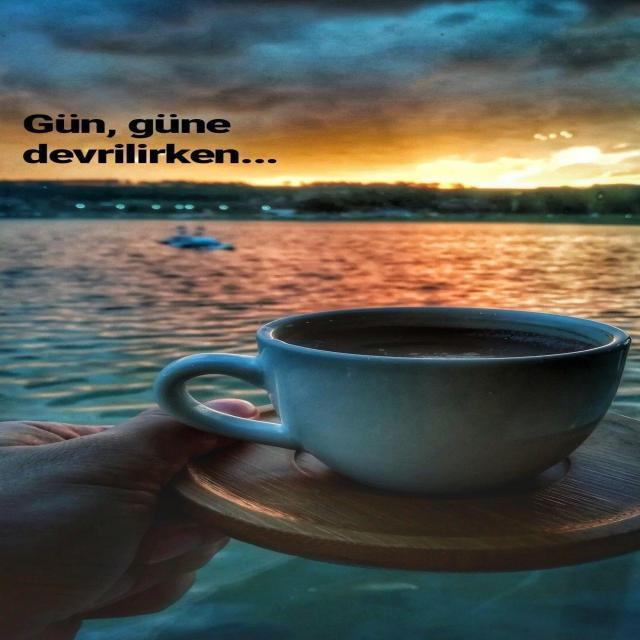cup-handle: (153, 305, 629, 495)
